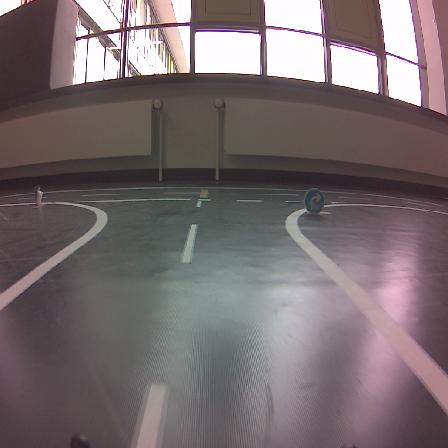RIGHT_TURN: (304, 188, 323, 213)
